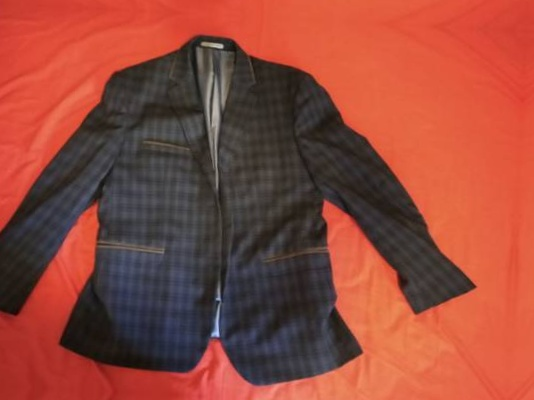Blazer: (0, 15, 471, 388), (0, 0, 491, 14)
